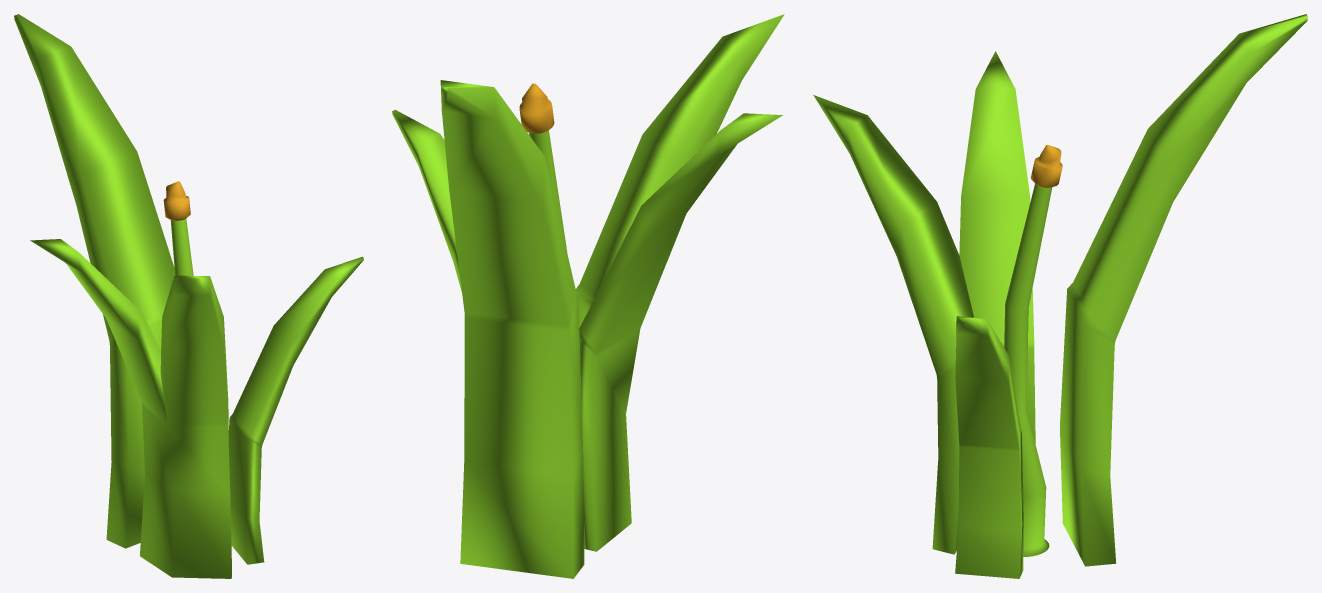
File: grass.fbx
The picture shows the model from 3 angles, left to right: view 1: azimuth 30°, elevation 25°; view 2: azimuth 150°, elevation 25°; view 3: azimuth 270°, elevation 25°; orthographic projection. The views are drawn at different scales.
Parts seen in each view (by area): view 1: Cube.001; view 2: Cube.001; view 3: Cube.001.
Part boxes in pixels (x1,y1,x2,y2): Cube.001: (14, 14, 363, 578); Cube.001: (392, 14, 784, 578); Cube.001: (813, 14, 1307, 578).
Size of the model in its own units: 93.73 by 127 by 112.
